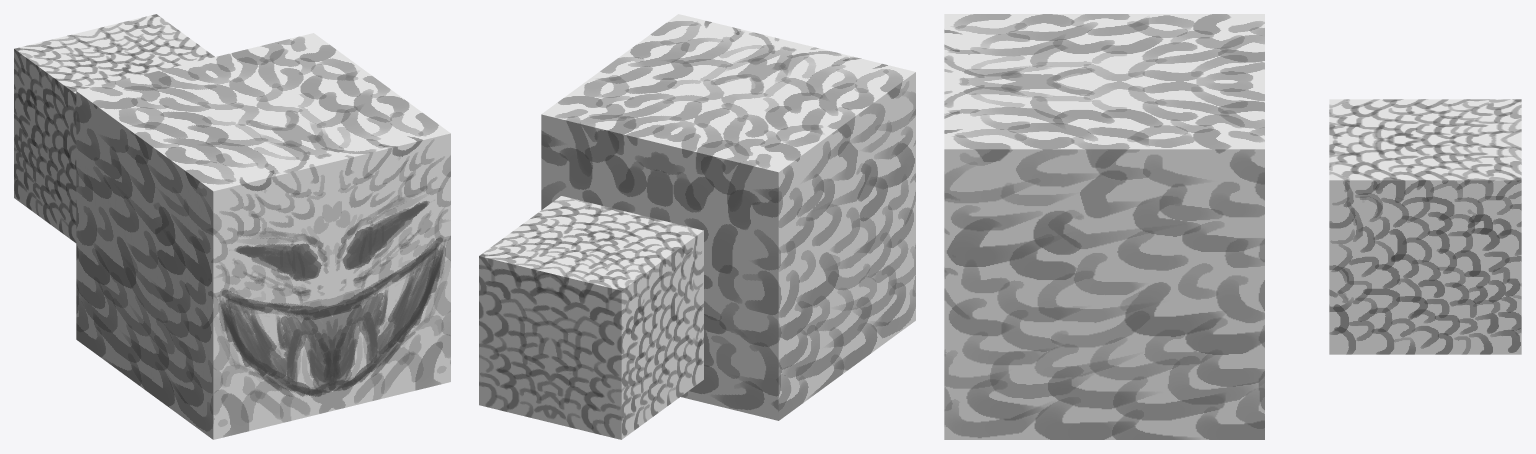
File: Enemy Snake Model.fbx
3 renders of one model, left to right at view 1: azimuth 30°, elevation 25°; view 2: azimuth 150°, elevation 25°; view 3: azimuth 270°, elevation 25°, orthographic. The views are drawn at different scales.
Parts seen in each view (by area): view 1: Snake Body, Snake Segment; view 2: Snake Body, Snake Segment; view 3: Snake Body, Snake Segment.
Part boxes in pixels (x1,y1,x2,y2): Snake Body: (76, 33, 450, 439); Snake Segment: (14, 14, 214, 242); Snake Body: (541, 14, 915, 420); Snake Segment: (479, 196, 703, 439); Snake Body: (944, 14, 1264, 439); Snake Segment: (1329, 99, 1521, 354).
Size of the model in its own units: 100 by 100 by 180.
Materials: 2 (2 with a texture image).
